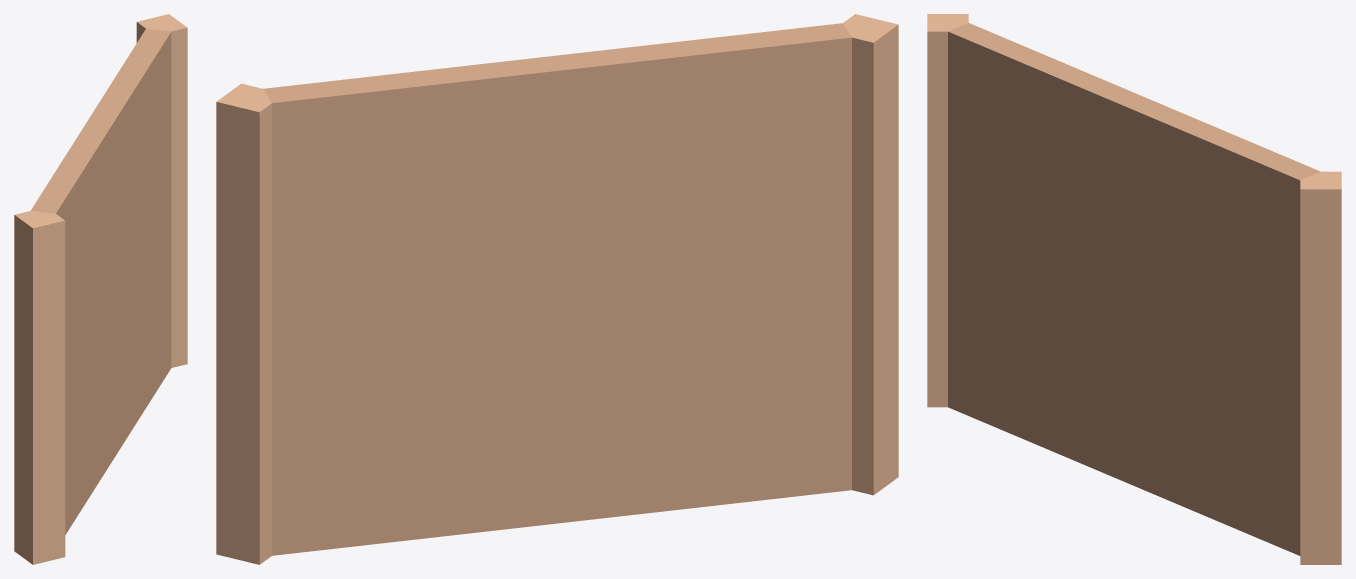
File: wallWoodDiagonal.glb
3 views of the same model, side by side, from view 1: azimuth 30°, elevation 25°; view 2: azimuth 150°, elevation 25°; view 3: azimuth 270°, elevation 25° (orthographic). The views are drawn at different scales.
Parts seen in each view (by area): view 1: wallWoodDiagonal; view 2: wallWoodDiagonal; view 3: wallWoodDiagonal.
Part boxes in pixels (x1,y1,x2,y2): wallWoodDiagonal: [14, 14, 187, 564]; wallWoodDiagonal: [216, 14, 898, 564]; wallWoodDiagonal: [927, 14, 1341, 564].
Size of the model in its own units: 1 by 1 by 1.
